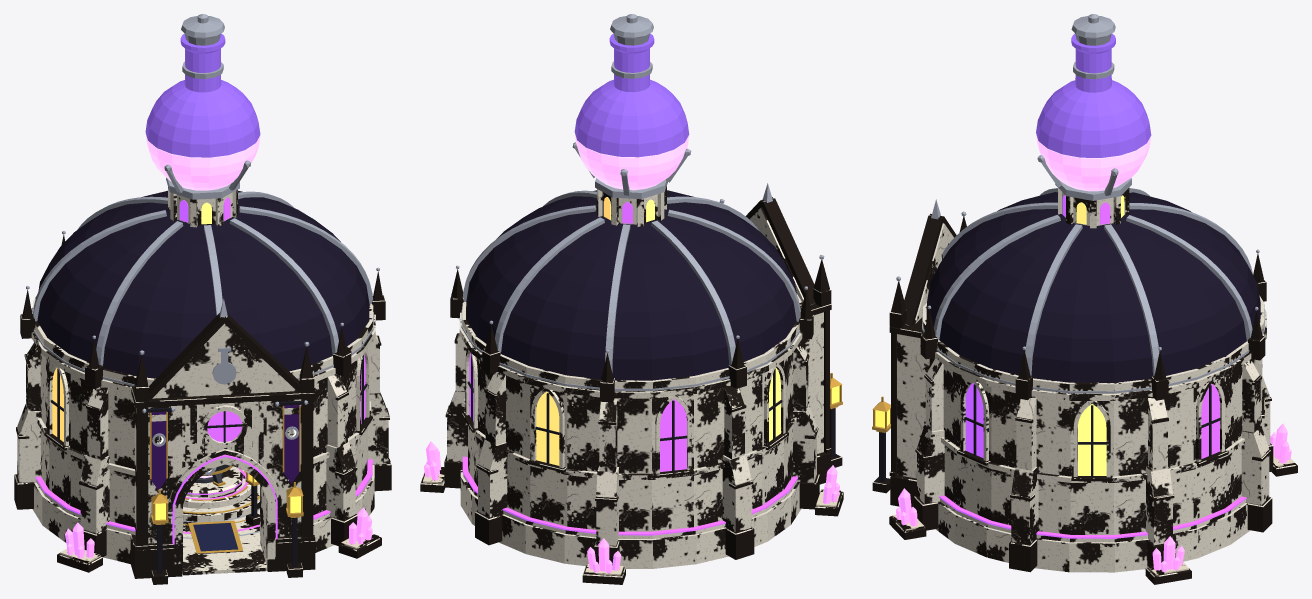
Rendered from ILHA3_16_CRAFT_ac1e1a.fbx.
The picture shows the model from 3 angles, left to right: view 1: azimuth 30°, elevation 25°; view 2: azimuth 150°, elevation 25°; view 3: azimuth 270°, elevation 25°; orthographic projection.
Parts seen in each view (by area): view 1: SG_Craft_Dome__Roof_SG_Navy, SG_Craft_Shell__Stone_SGCraftDark, SG_Craft_Shell__Stone_SG_Obsidian, SG_Craft_Shell__Stone_SG_Violet, SG_Craft_Shell__Stone_SG_Castle, SG_Craft_Dome__Metal_SG_Silver, SG_Craft_Dome__Glass_SG_Rose, SG_Craft_Dome__SG_Violet_Glow, SG_Craft_Shell__SG_VioletDeep_Glow, SG_Craft_Shell__Cloth_SG_Purple, SG_Craft_Shell__Metal_SG_Silver, SG_Craft_Shell__Metal_SG_BlackIron (+10 smaller); view 2: SG_Craft_Dome__Roof_SG_Navy, SG_Craft_Shell__Stone_SGCraftDark, SG_Craft_Shell__Stone_SG_Obsidian, SG_Craft_Shell__Stone_SG_Castle, SG_Craft_Shell__Stone_SG_Violet, SG_Craft_Dome__Metal_SG_Silver, SG_Craft_Dome__Glass_SG_Rose, SG_Craft_Shell__SG_VioletDeep_Glow, SG_Craft_Dome__SG_Violet_Glow, SG_Craft_Shell__Window_Warm, SG_Craft_Shell__SG_Crystal_Glow, SG_Craft_Shell__Metal_SG_BlackIron (+4 smaller); view 3: SG_Craft_Dome__Roof_SG_Navy, SG_Craft_Shell__Stone_SGCraftDark, SG_Craft_Shell__Stone_SG_Obsidian, SG_Craft_Shell__Stone_SG_Violet, SG_Craft_Shell__Stone_SG_Castle, SG_Craft_Dome__Metal_SG_Silver, SG_Craft_Dome__Glass_SG_Rose, SG_Craft_Shell__SG_VioletDeep_Glow, SG_Craft_Dome__SG_Violet_Glow, SG_Craft_Shell__SG_Crystal_Glow, SG_Craft_Shell__Window_Warm, SG_Craft_Shell__Metal_SG_BlackIron (+3 smaller).
Part boxes in pixels (box(x1,y1,x2,y2)): SG_Craft_Dome__Roof_SG_Navy: box(37, 190, 369, 378); SG_Craft_Shell__Stone_SGCraftDark: box(22, 234, 383, 566); SG_Craft_Shell__Stone_SG_Obsidian: box(14, 308, 391, 584); SG_Craft_Shell__Stone_SG_Violet: box(16, 295, 389, 564); SG_Craft_Shell__Stone_SG_Castle: box(17, 334, 388, 533); SG_Craft_Dome__Metal_SG_Silver: box(33, 14, 372, 365); SG_Craft_Dome__Glass_SG_Rose: box(145, 33, 260, 157); SG_Craft_Dome__SG_Violet_Glow: box(145, 133, 260, 190); SG_Craft_Shell__SG_VioletDeep_Glow: box(35, 354, 372, 544); SG_Craft_Shell__Cloth_SG_Purple: box(150, 404, 300, 489); SG_Craft_Shell__Metal_SG_Silver: box(26, 218, 379, 446); SG_Craft_Shell__Metal_SG_BlackIron: box(51, 355, 367, 573); SG_Craft_Dome__Roof_SG_Navy: box(466, 190, 796, 380); SG_Craft_Shell__Stone_SGCraftDark: box(451, 207, 829, 531); SG_Craft_Shell__Stone_SG_Obsidian: box(420, 302, 843, 584); SG_Craft_Shell__Stone_SG_Castle: box(447, 333, 816, 545); SG_Craft_Shell__Stone_SG_Violet: box(445, 197, 831, 538); SG_Craft_Dome__Metal_SG_Silver: box(462, 14, 800, 372); SG_Craft_Dome__Glass_SG_Rose: box(574, 33, 689, 157); SG_Craft_Shell__SG_VioletDeep_Glow: box(462, 353, 798, 535); SG_Craft_Dome__SG_Violet_Glow: box(575, 134, 688, 190); SG_Craft_Shell__Window_Warm: box(536, 367, 780, 465); SG_Craft_Shell__SG_Crystal_Glow: box(424, 441, 839, 573); SG_Craft_Shell__Metal_SG_BlackIron: box(467, 354, 835, 471); SG_Craft_Dome__Roof_SG_Navy: box(926, 192, 1260, 382); SG_Craft_Shell__Stone_SGCraftDark: box(891, 216, 1263, 534); SG_Craft_Shell__Stone_SG_Obsidian: box(872, 310, 1297, 584); SG_Craft_Shell__Stone_SG_Violet: box(889, 213, 1271, 542); SG_Craft_Shell__Stone_SG_Castle: box(917, 358, 1270, 545); SG_Craft_Dome__Metal_SG_Silver: box(934, 14, 1252, 375); SG_Craft_Dome__Glass_SG_Rose: box(1036, 33, 1151, 157); SG_Craft_Shell__SG_VioletDeep_Glow: box(939, 383, 1246, 538); SG_Craft_Dome__SG_Violet_Glow: box(1036, 134, 1150, 191); SG_Craft_Shell__SG_Crystal_Glow: box(896, 423, 1291, 571); SG_Craft_Shell__Window_Warm: box(1078, 404, 1106, 475); SG_Craft_Shell__Metal_SG_BlackIron: box(879, 384, 1220, 481).
Bounding box in the file's own units: 38.33 × 50.28 × 39.95.
Materials: 24 (3 with a texture image).
